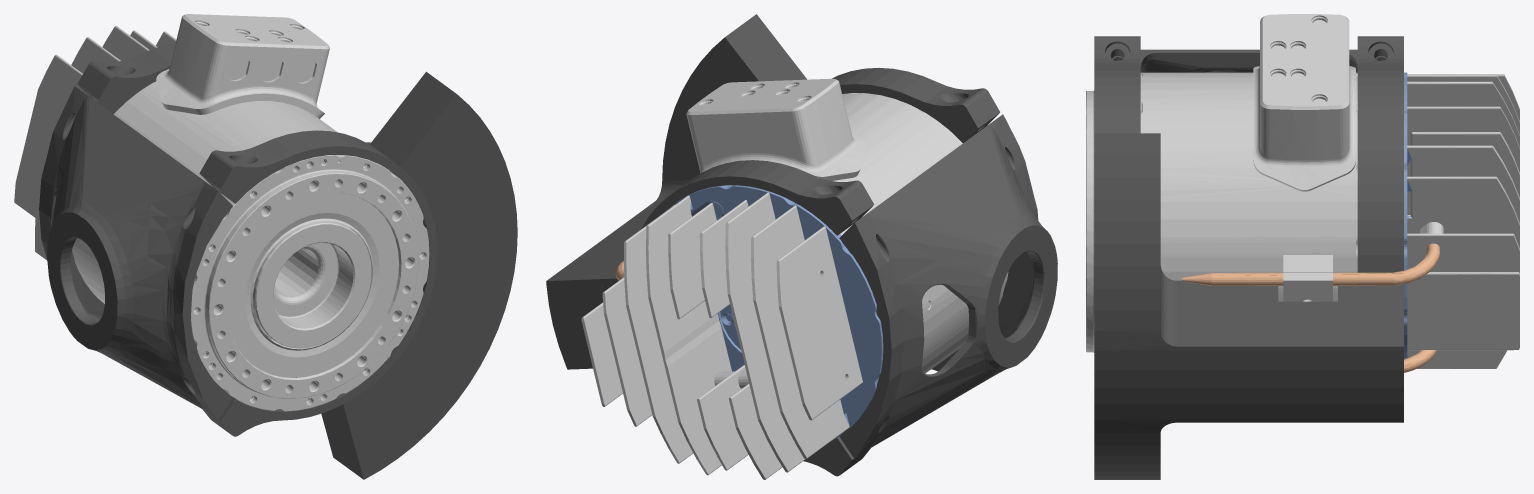
The model's file is anymal_hip_r.dae.
The picture shows the model from 3 angles, left to right: view 1: azimuth 30°, elevation 25°; view 2: azimuth 150°, elevation 25°; view 3: azimuth 270°, elevation 25°; orthographic projection. The views are drawn at different scales.
Parts seen in each view (by area): view 1: _42196_00-ASM_ANYmal_hip_left_EDI_001, _42196_00-ASM_ANYmal_hip_left_EDI_002, _42196_00-ASM_ANYmal_hip_left_EDI_004, _42196_00-ASM_ANYmal_hip_left_EDI_005, _42196_00-ASM_ANYmal_hip_left_EDI_003, _42196_00-ASM_ANYmal_hip_left_EDI_001_001; view 2: _42196_00-ASM_ANYmal_hip_left_EDI_001, _42196_00-ASM_ANYmal_hip_left_EDI_002, _42196_00-ASM_ANYmal_hip_left_EDI_005, _42196_00-ASM_ANYmal_hip_left_EDI_004, _42196_00-ASM_ANYmal_hip_left_EDI_001_001, _42196_00-ASM_ANYmal_hip_left_EDI_003; view 3: _42196_00-ASM_ANYmal_hip_left_EDI_001, _42196_00-ASM_ANYmal_hip_left_EDI_004, _42196_00-ASM_ANYmal_hip_left_EDI_005, _42196_00-ASM_ANYmal_hip_left_EDI_001_001, _42196_00-ASM_ANYmal_hip_left_EDI_003, _42196_00-ASM_ANYmal_hip_left_EDI_006, _42196_00-ASM_ANYmal_hip_left_EDI_002, _42196_00-ASM_ANYmal_hip_left_EDI_007.
Part boxes in pixels (x1,y1,x2,y2): _42196_00-ASM_ANYmal_hip_left_EDI_001: (14,25,429,411); _42196_00-ASM_ANYmal_hip_left_EDI_002: (39,86,232,420); _42196_00-ASM_ANYmal_hip_left_EDI_004: (321,71,517,479); _42196_00-ASM_ANYmal_hip_left_EDI_005: (156,14,329,118); _42196_00-ASM_ANYmal_hip_left_EDI_003: (199,130,437,436); _42196_00-ASM_ANYmal_hip_left_EDI_001_001: (77,43,175,113); _42196_00-ASM_ANYmal_hip_left_EDI_001: (581,93,1008,479); _42196_00-ASM_ANYmal_hip_left_EDI_002: (839,114,1057,459); _42196_00-ASM_ANYmal_hip_left_EDI_005: (686,78,865,180); _42196_00-ASM_ANYmal_hip_left_EDI_004: (546,14,806,369); _42196_00-ASM_ANYmal_hip_left_EDI_001_001: (641,160,874,476); _42196_00-ASM_ANYmal_hip_left_EDI_003: (832,68,1000,371); _42196_00-ASM_ANYmal_hip_left_EDI_001: (1086,72,1519,368); _42196_00-ASM_ANYmal_hip_left_EDI_004: (1094,133,1403,479); _42196_00-ASM_ANYmal_hip_left_EDI_005: (1253,14,1355,191); _42196_00-ASM_ANYmal_hip_left_EDI_001_001: (1357,36,1403,272); _42196_00-ASM_ANYmal_hip_left_EDI_003: (1094,36,1140,133); _42196_00-ASM_ANYmal_hip_left_EDI_006: (1182,243,1439,372); _42196_00-ASM_ANYmal_hip_left_EDI_002: (1112,49,1386,72); _42196_00-ASM_ANYmal_hip_left_EDI_007: (1283,255,1332,301).
Size of the model in its own units: 0.1415 by 0.131 by 0.1425.
